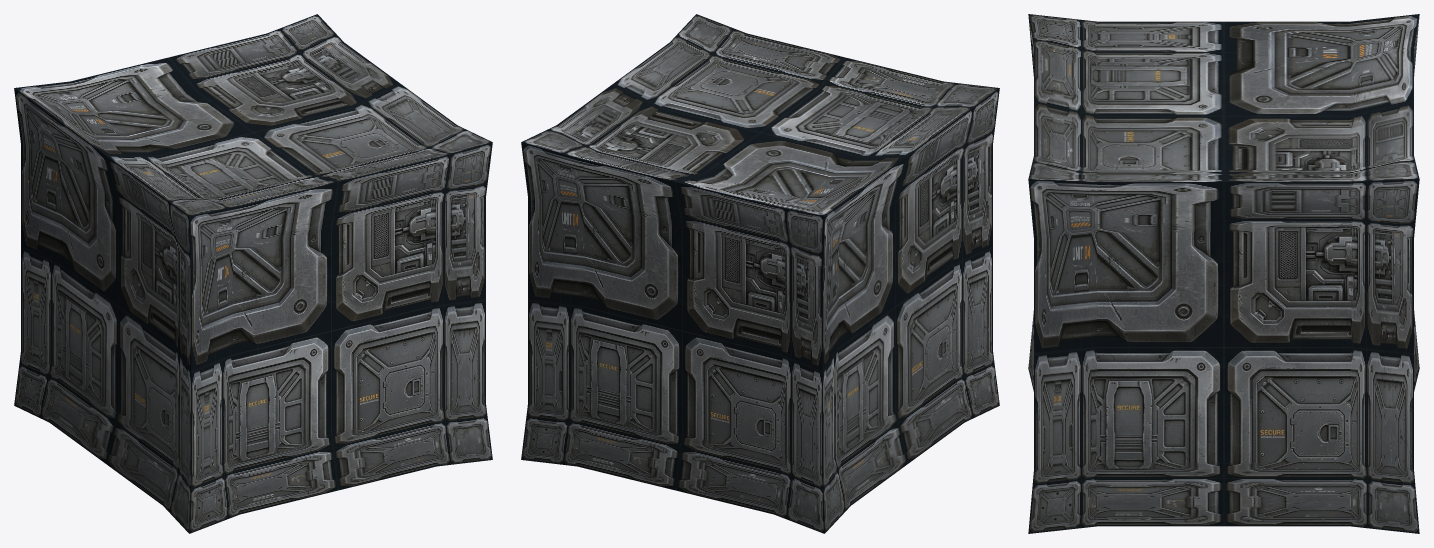
File: crate.obj
3 renders of one model, left to right at view 1: azimuth 30°, elevation 25°; view 2: azimuth 150°, elevation 25°; view 3: azimuth 270°, elevation 25°, orthographic. The views are drawn at different scales.
Bounding box in the file's own units: 1.24 × 1.24 × 1.24.
Materials: 1 (1 with a texture image).
